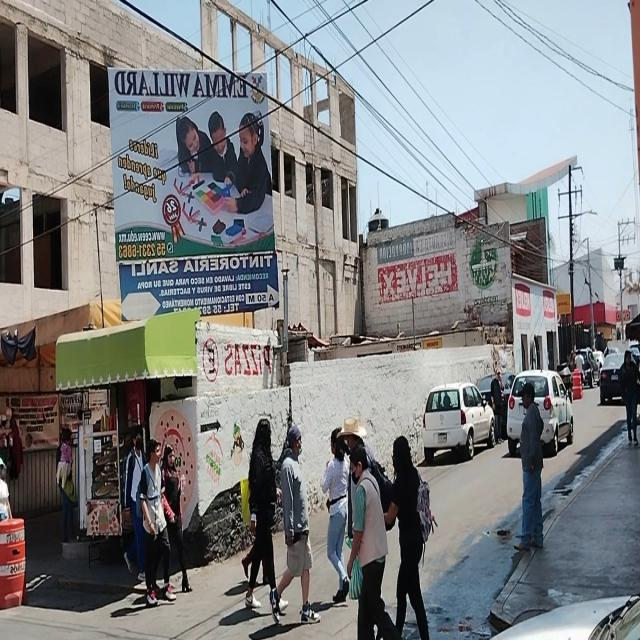adult: (270, 427, 320, 628), (346, 447, 396, 640), (385, 434, 431, 640), (139, 439, 175, 607), (245, 420, 276, 606), (322, 428, 352, 600), (515, 381, 543, 551), (162, 441, 190, 592), (343, 418, 371, 550), (124, 428, 148, 580), (54, 426, 74, 540), (619, 350, 640, 446), (490, 367, 504, 443)
